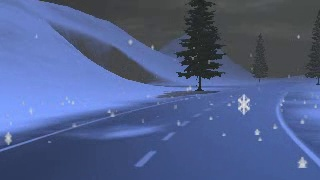Lane: (1, 82, 318, 179)
